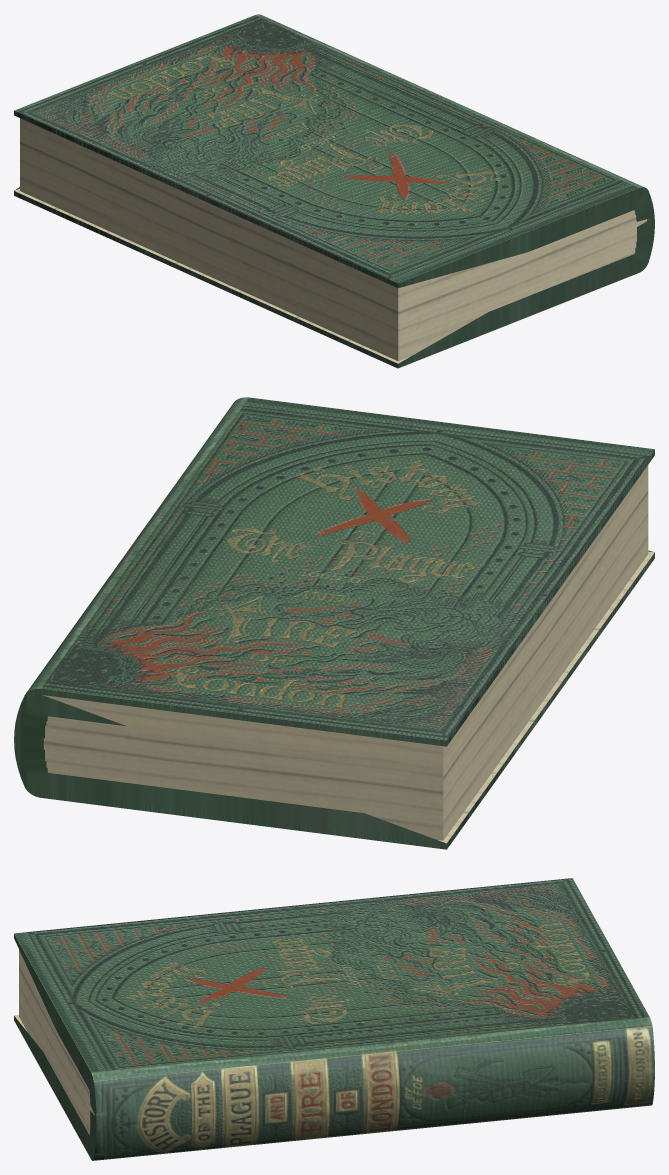
Rendered from Book 4.fbx.
3 views of the same model, one above another, from view 1: azimuth 30°, elevation 25°; view 2: azimuth 150°, elevation 25°; view 3: azimuth 270°, elevation 25° (orthographic). The views are drawn at different scales.
Parts seen in each view (by area): view 1: Book_4; view 2: Book_4; view 3: Book_4.
Part boxes in pixels (left/top/right/bottom): Book_4: left=14, top=14, right=654, bottom=368; Book_4: left=14, top=397, right=654, bottom=849; Book_4: left=14, top=878, right=654, bottom=1160.
Size of the model in its own units: 1.13 by 0.2261 by 1.51.
1 material, 1 textured.
